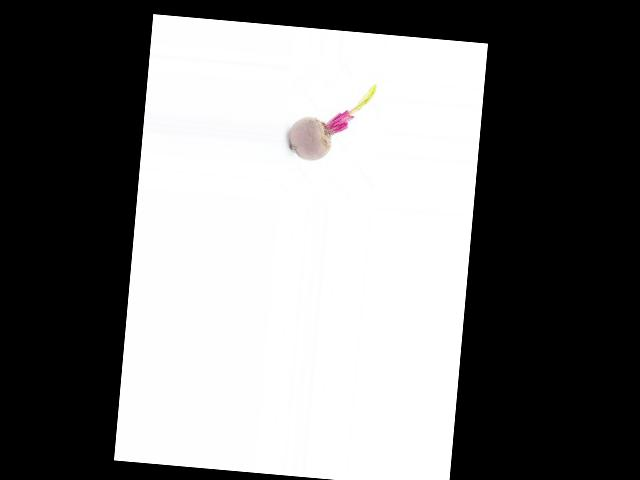beet: (287, 78, 376, 166)
